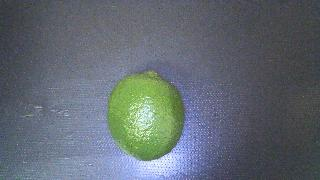EXPORTACION: (107, 71, 185, 161)
